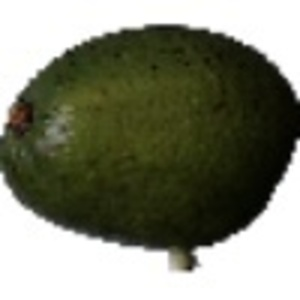abacate: (1, 17, 298, 246)
